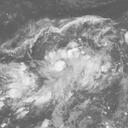cyclone: (40, 48, 94, 92)
